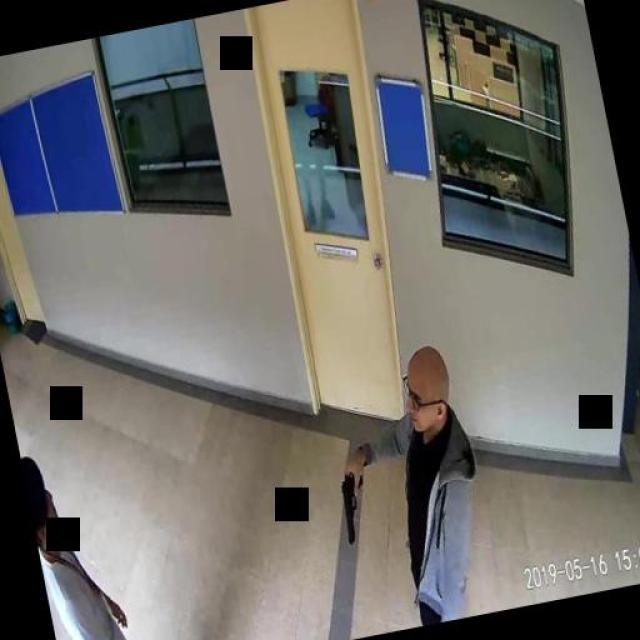gun: (334, 465, 371, 543)
